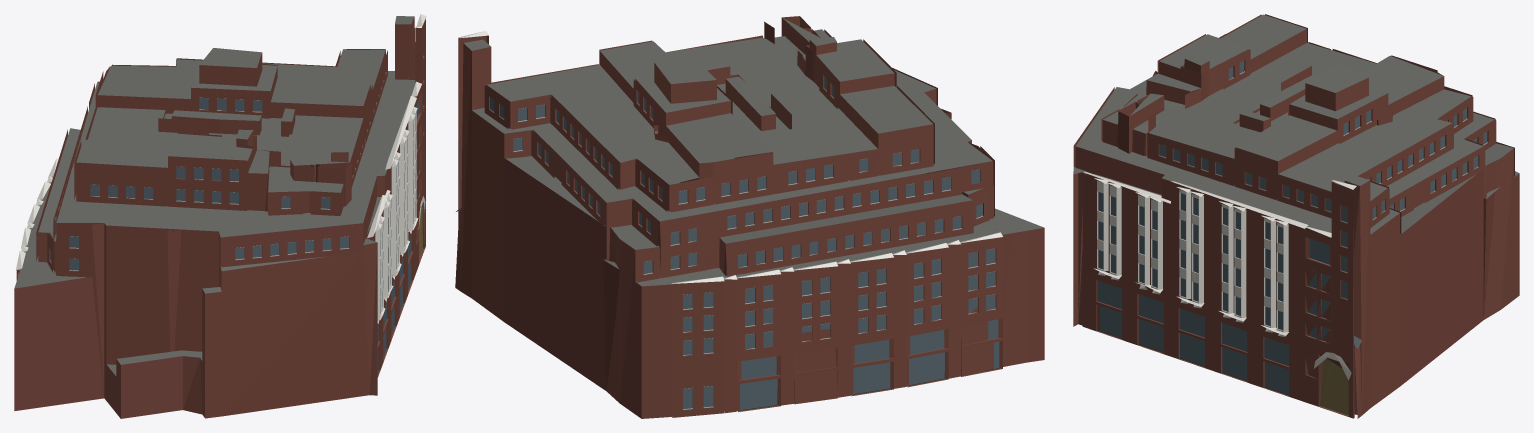
File: brand-bij-ca.lod1.glb
3 renders of one model, left to right at view 1: azimuth 30°, elevation 25°; view 2: azimuth 150°, elevation 25°; view 3: azimuth 270°, elevation 25°, orthographic. The views are drawn at different scales.
Visible parts, largest first — view 1: brand-bij-ca; view 2: brand-bij-ca; view 3: brand-bij-ca.
Boxes of the visible parts, x1,y1,x2,y2 form: brand-bij-ca: (14,14,426,418); brand-bij-ca: (455,16,1044,418); brand-bij-ca: (1073,14,1519,418).
Bounding box in the file's own units: 80 × 38.87 × 64.97.
